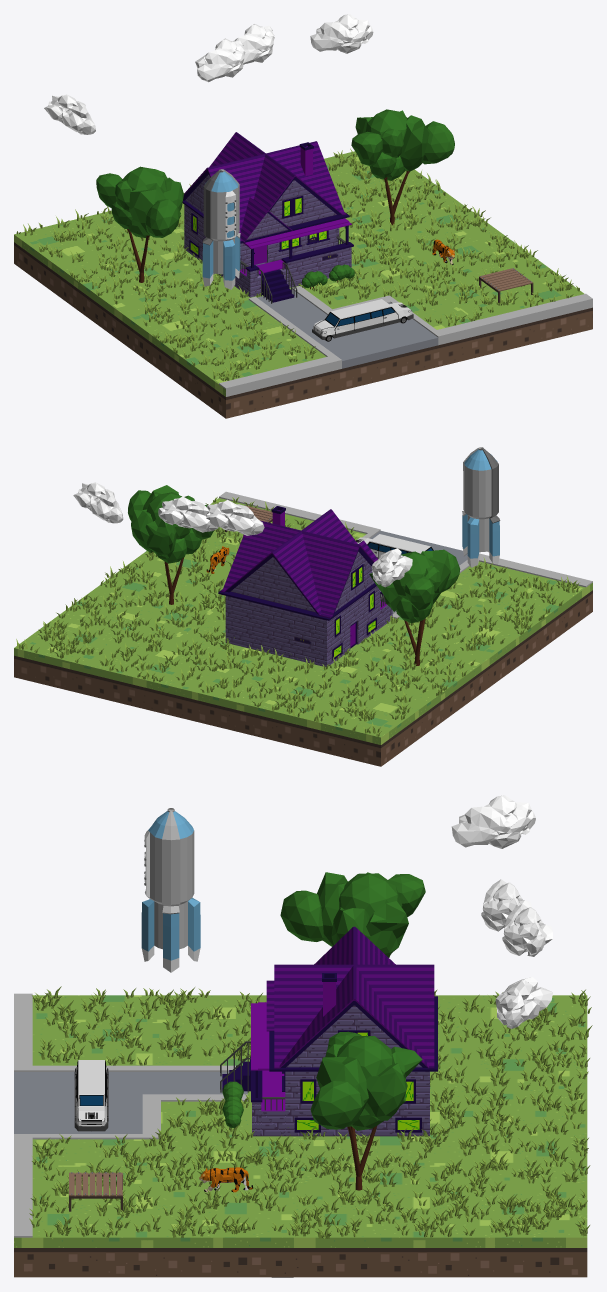
3 renders of one model, top to bottom at view 1: azimuth 30°, elevation 25°; view 2: azimuth 150°, elevation 25°; view 3: azimuth 270°, elevation 25°, orthographic. The views are drawn at different scales.
Parts seen in each view (by area): view 1: Cube.006, Circle.012_Grass_0.192, Cube.039, Cube.007, tree, tree.001, OBJRANDOM_ROCKETSHIP, VEHICLES_LIMOUSINE, Cube.009; view 2: Cube.006, Cube.039, Circle.012_Grass_0.192, Cube.007, OBJRANDOM_ROCKETSHIP, tree.001, tree, VEHICLES_LIMOUSINE; view 3: Cube.006, Circle.012_Grass_0.192, Cube.039, tree, Cube.007, tree.001, OBJRANDOM_ROCKETSHIP, VEHICLES_LIMOUSINE, Cube.009, ANIMAL_TIGRE.
Boxes of the visible parts, box(x1,y1,x2,y2) form: Cube.006: box(14, 151, 592, 418); Circle.012_Grass_0.192: box(16, 148, 579, 381); Cube.039: box(182, 132, 353, 303); Cube.007: box(44, 14, 373, 134); tree: box(351, 109, 454, 225); tree.001: box(96, 166, 183, 282); OBJRANDOM_ROCKETSHIP: box(202, 169, 240, 289); VEHICLES_LIMOUSINE: box(312, 299, 413, 341); Cube.009: box(479, 268, 533, 302); Cube.006: box(14, 491, 592, 766); Cube.039: box(218, 506, 392, 666); Circle.012_Grass_0.192: box(16, 497, 579, 736); Cube.007: box(73, 482, 412, 587); OBJRANDOM_ROCKETSHIP: box(462, 447, 500, 567); tree.001: box(369, 549, 460, 665); tree: box(128, 485, 213, 604); VEHICLES_LIMOUSINE: box(356, 534, 433, 558); Cube.006: box(14, 993, 587, 1277); Circle.012_Grass_0.192: box(29, 986, 592, 1238); Cube.039: box(220, 926, 437, 1136); tree: box(310, 1031, 422, 1190); Cube.007: box(451, 795, 552, 1028); tree.001: box(280, 872, 425, 957); OBJRANDOM_ROCKETSHIP: box(141, 808, 200, 972); VEHICLES_LIMOUSINE: box(74, 1060, 108, 1131); Cube.009: box(69, 1172, 122, 1211); ANIMAL_TIGRE: box(199, 1167, 253, 1192).
Bounding box in the file's own units: 4071 × 2184 × 4040.
Materials: 36 (6 with a texture image).
